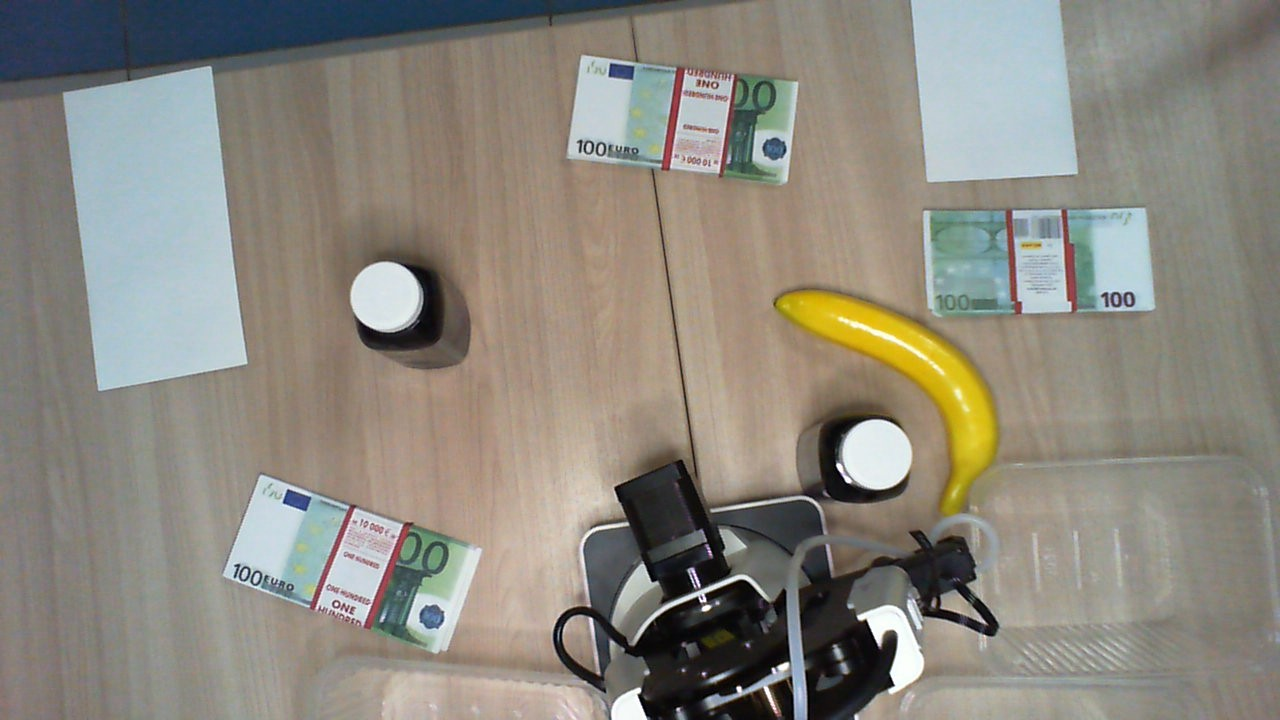banana: (779, 282, 1003, 518)
bottle: (809, 412, 913, 501), (353, 258, 444, 354)
convert: (63, 63, 246, 393), (910, 1, 1081, 184)
money: (223, 472, 480, 656), (566, 48, 803, 180), (924, 205, 1153, 321)
